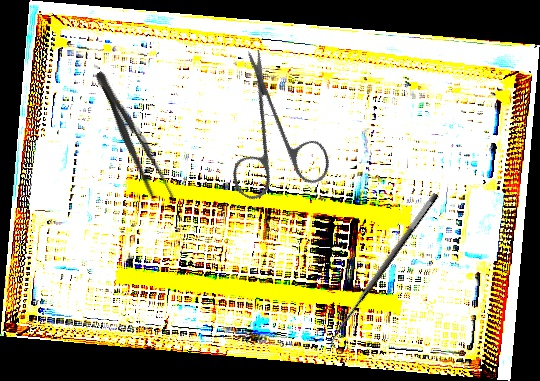Dressing Forceps: (87, 67, 179, 209)
Hook Surgical: (323, 190, 451, 354)
Iris Scissors: (182, 45, 364, 228)
